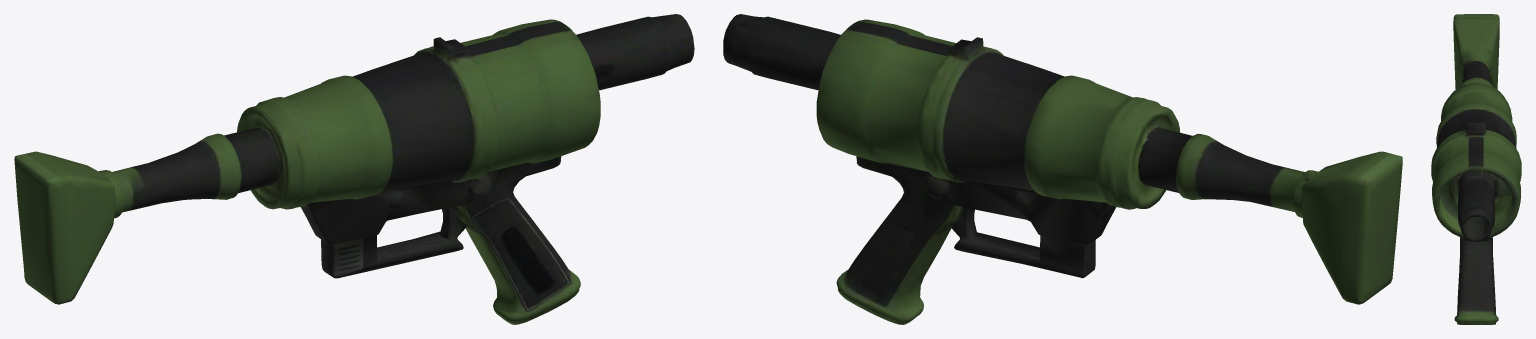
File: wpn_glauncher.glb
3 views of the same model, side by side, from view 1: azimuth 30°, elevation 25°; view 2: azimuth 150°, elevation 25°; view 3: azimuth 270°, elevation 25° (orthographic). The views are drawn at different scales.
Size of the model in its own units: 1.91 by 0.8214 by 0.3731.
1 material, 1 textured.
